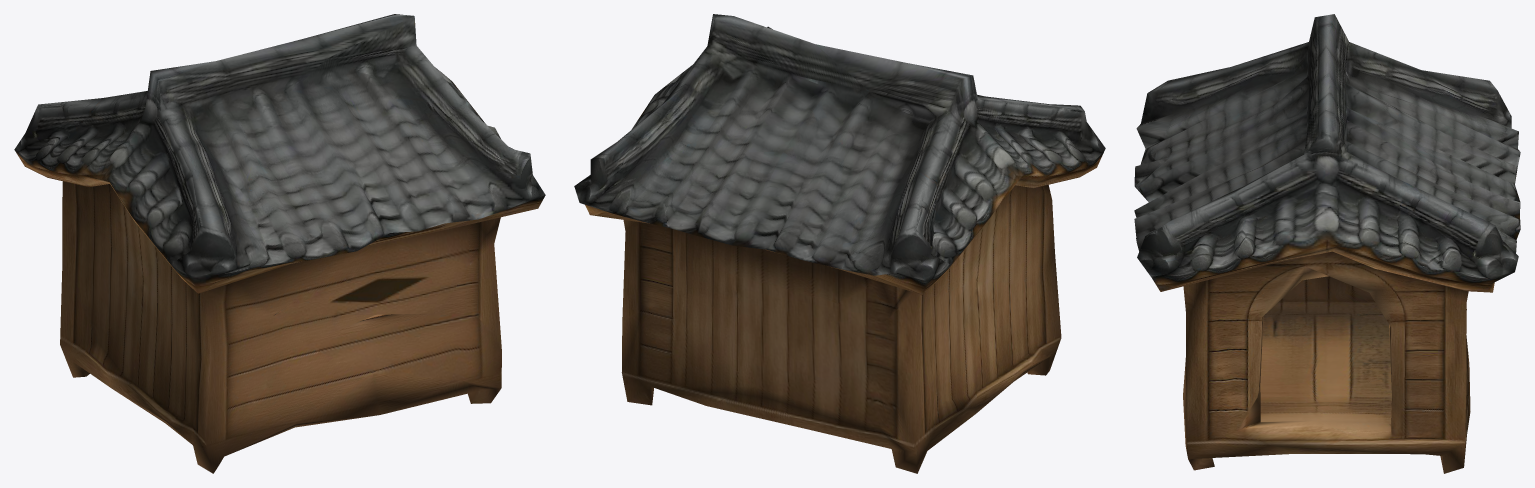
Rendered from Dog_House.fbx.
3 renders of one model, left to right at view 1: azimuth 30°, elevation 25°; view 2: azimuth 150°, elevation 25°; view 3: azimuth 270°, elevation 25°, orthographic. The views are drawn at different scales.
Parts seen in each view (by area): view 1: tripo_node_00bc447e; view 2: tripo_node_00bc447e; view 3: tripo_node_00bc447e.
Part boxes in pixels (<box>): tripo_node_00bc447e: <box>14,14,545,473</box>; tripo_node_00bc447e: <box>574,14,1105,473</box>; tripo_node_00bc447e: <box>1134,14,1520,473</box>.
Size of the model in its own units: 0.9734 by 0.8935 by 0.9326.
1 material, 1 textured.
